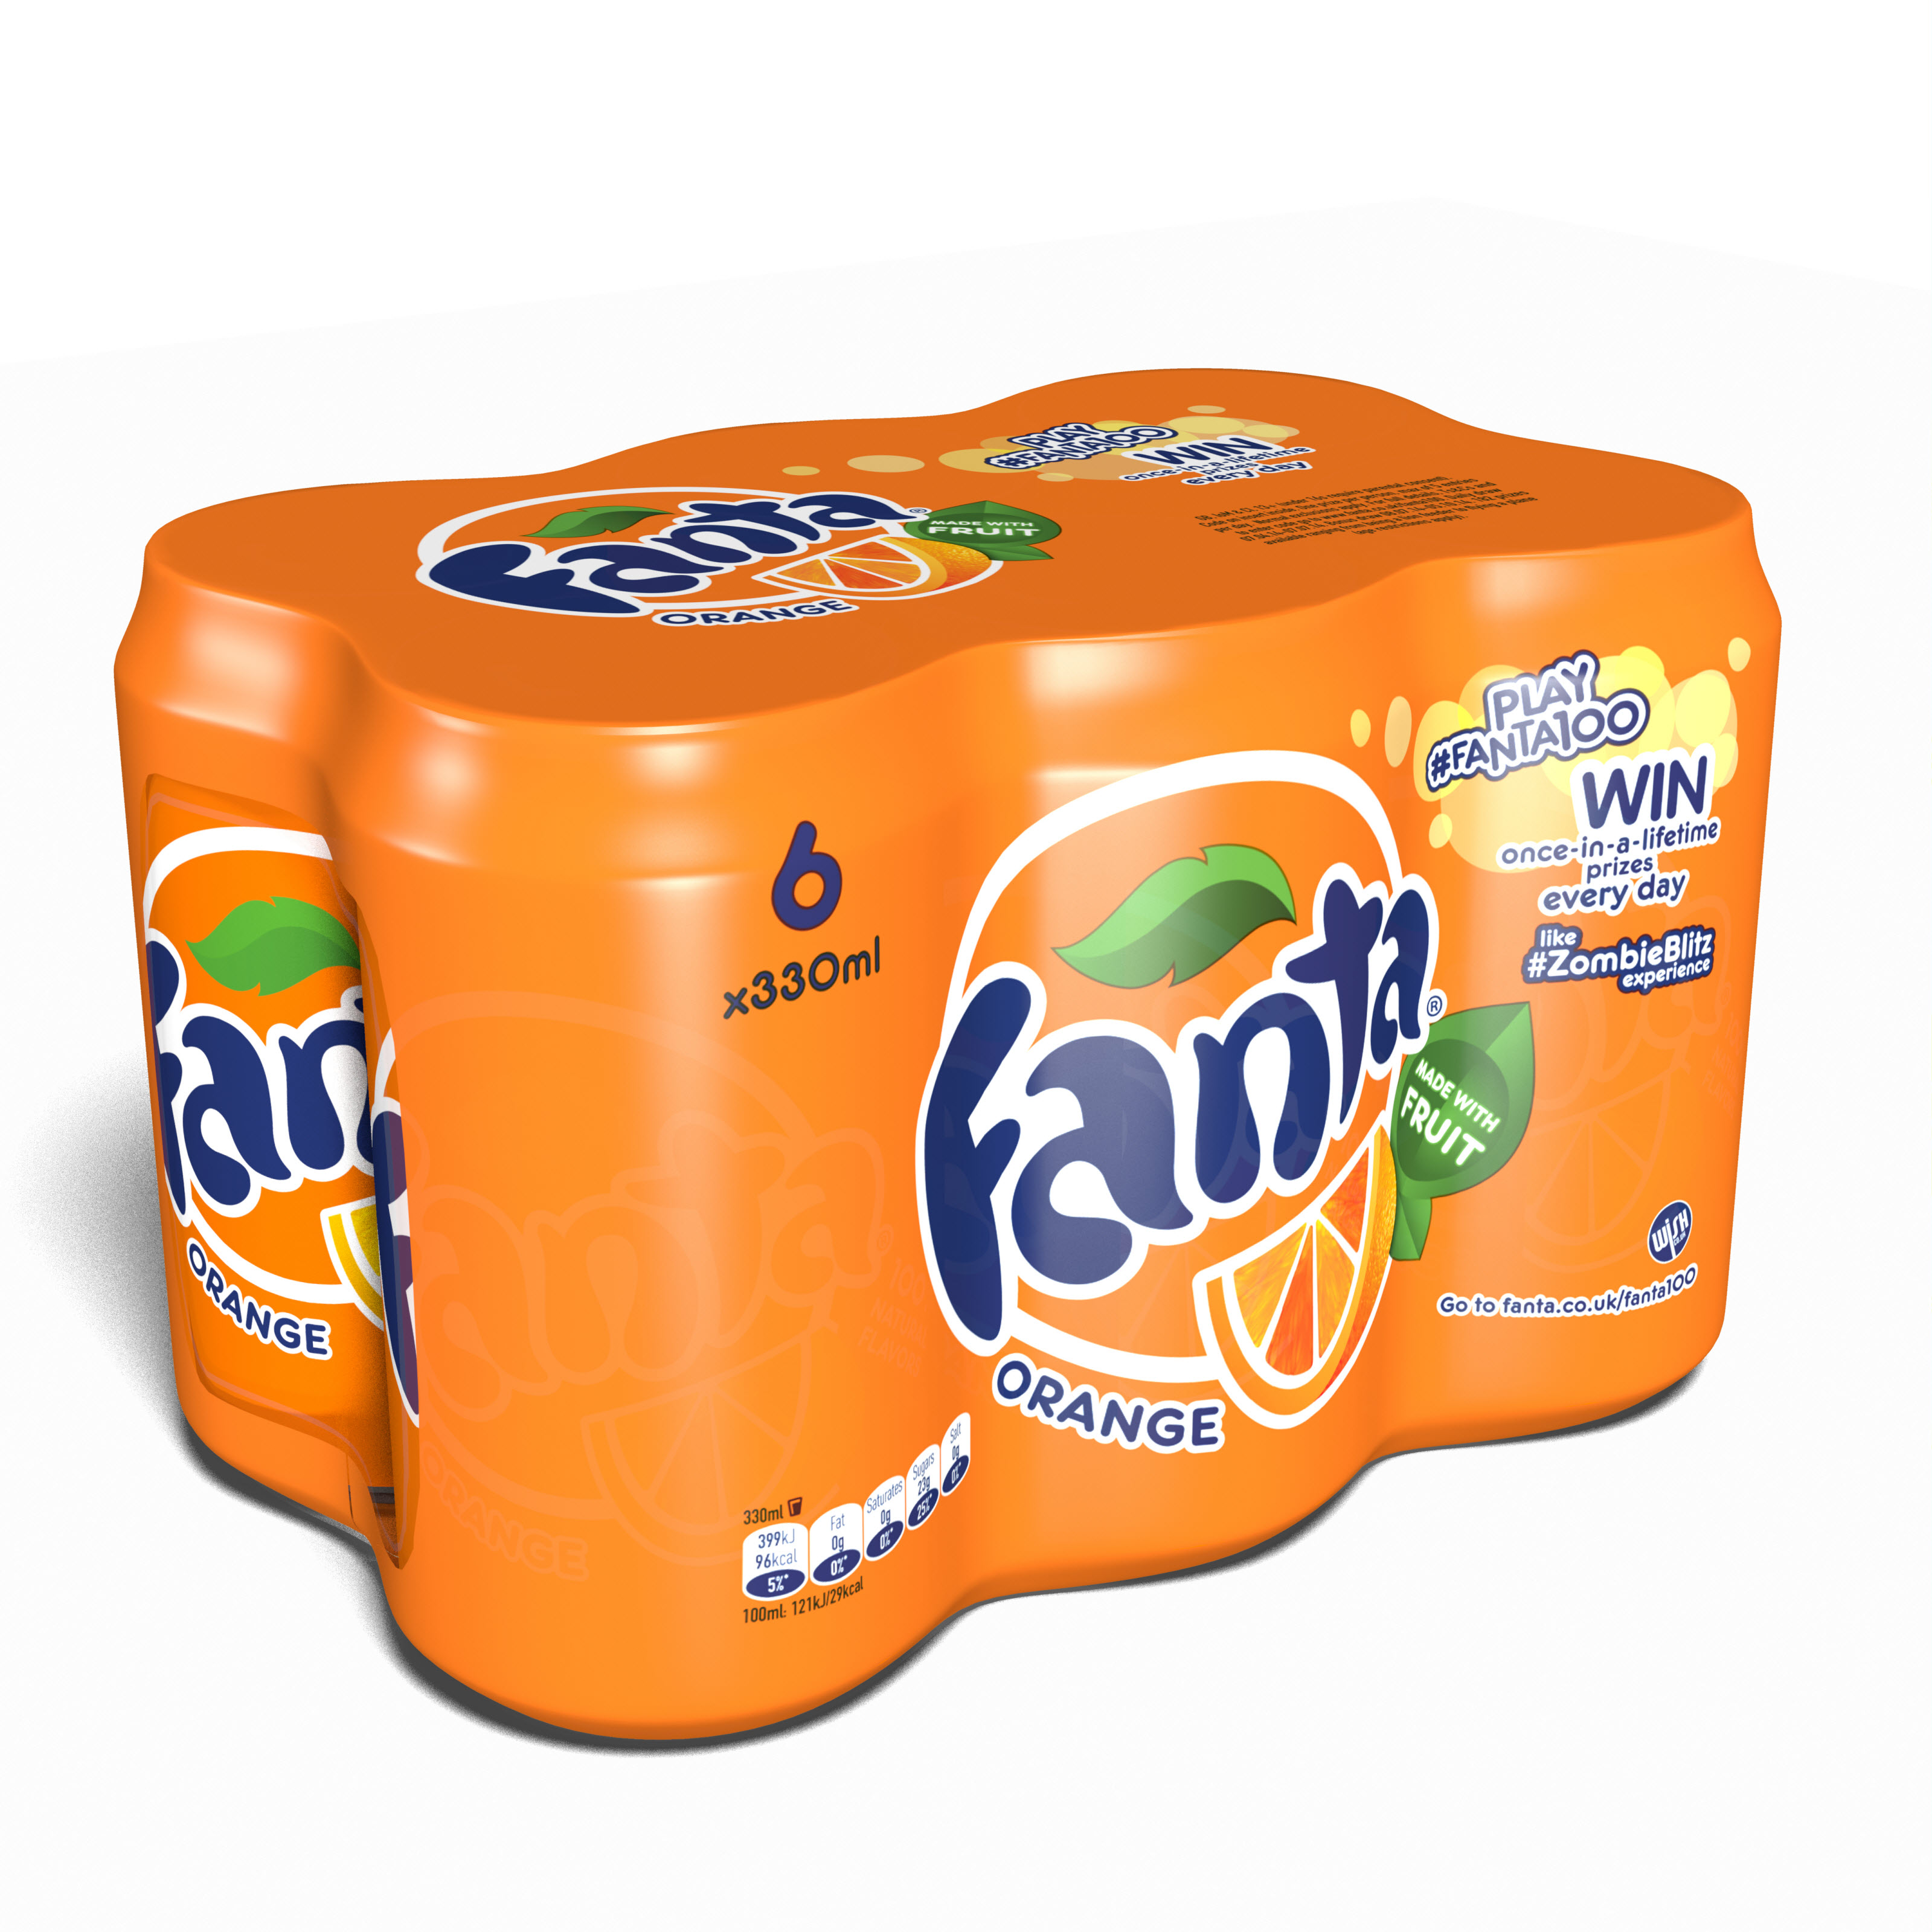Fanta: (978, 686, 1401, 1513), (101, 669, 524, 1493)
